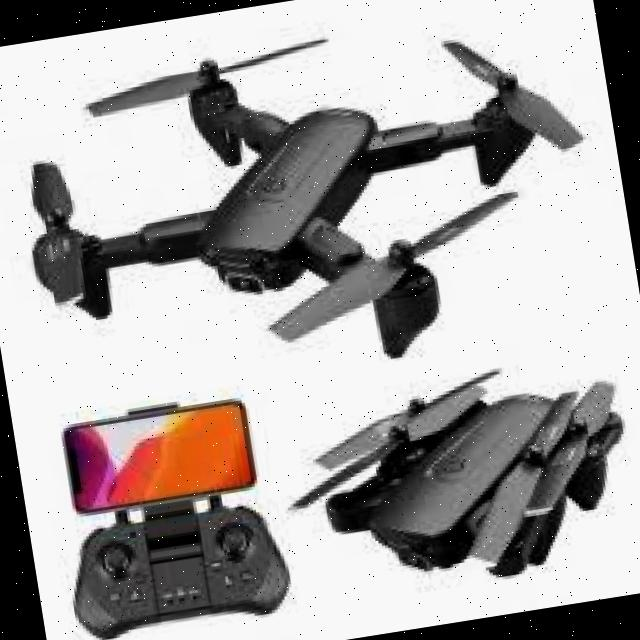drone: (0, 0, 616, 417)
